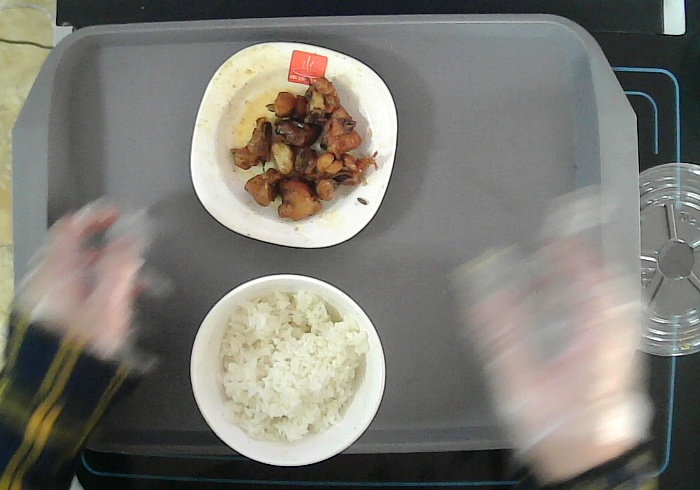SHKJ-Bai_Se_Si_Fang_Cai_Die: (185, 36, 403, 255)
SHKJ-Fan_Wan: (188, 270, 390, 473)
